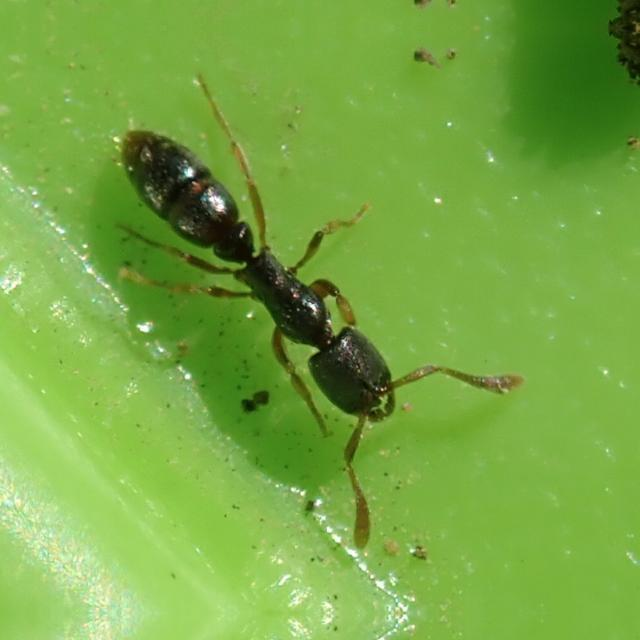Ponera: (84, 77, 542, 529)
